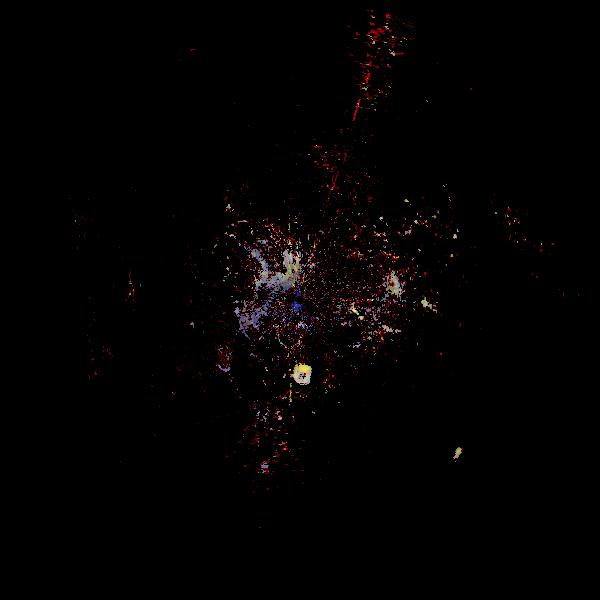roost: (290, 361, 317, 388), (453, 446, 477, 470)
